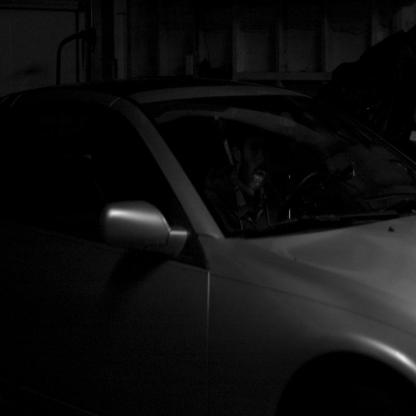Car: (1, 80, 416, 416)
